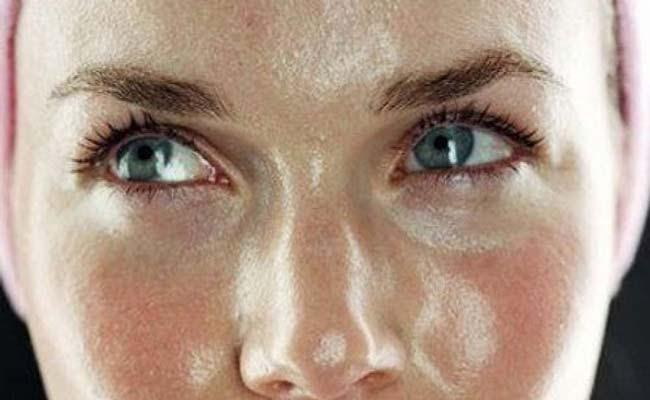Oily-Skin: (235, 149, 299, 377), (254, 3, 407, 97), (411, 256, 498, 400), (341, 222, 406, 375), (373, 189, 521, 255), (177, 345, 229, 397), (313, 329, 347, 368), (308, 146, 327, 189)
